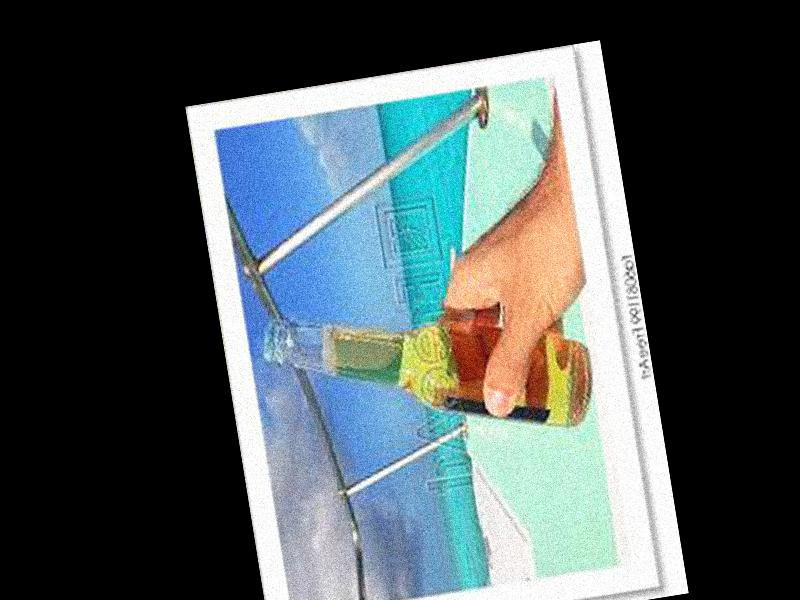Beer: (259, 263, 596, 475)
